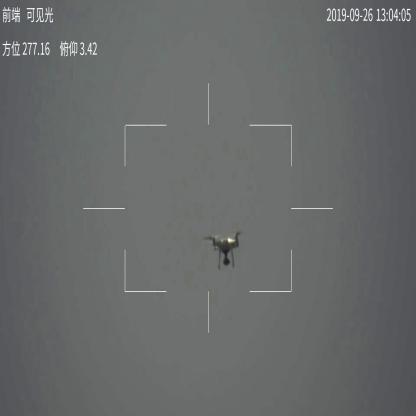uav: (202, 231, 246, 269)
